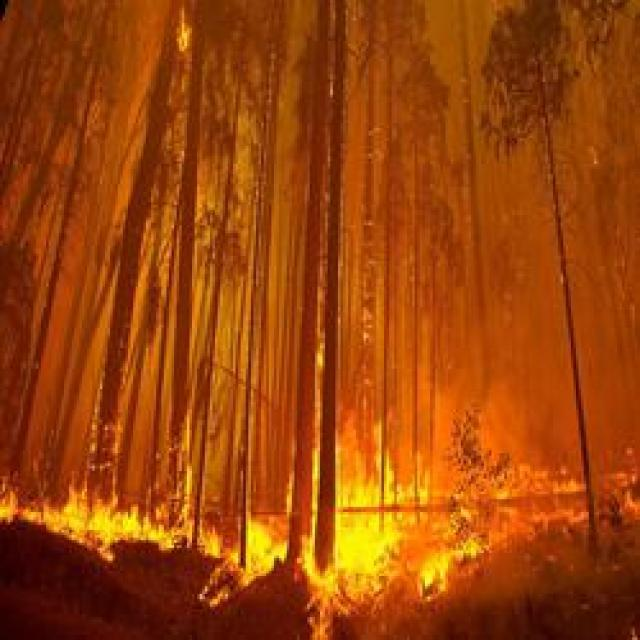Fire: (268, 434, 430, 636), (0, 482, 270, 558), (418, 518, 489, 598), (171, 18, 204, 62)
Smoke: (0, 0, 640, 489)
